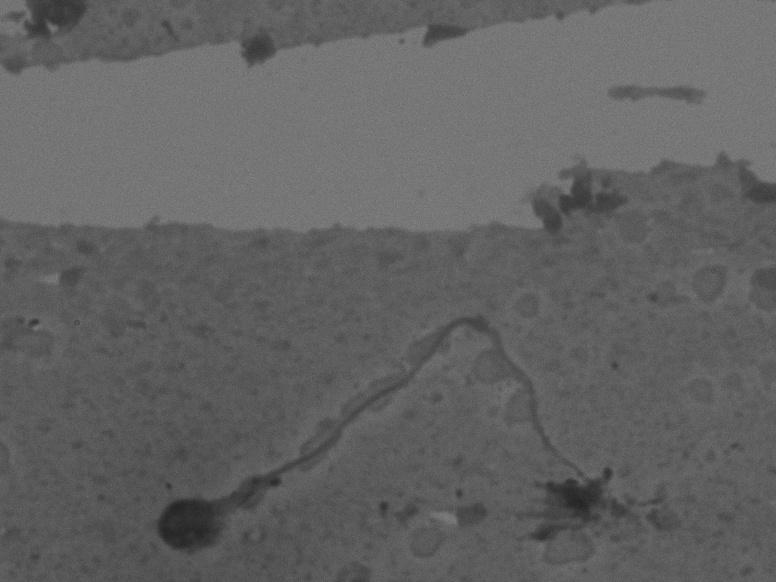Abnormal: (132, 294, 665, 567)
